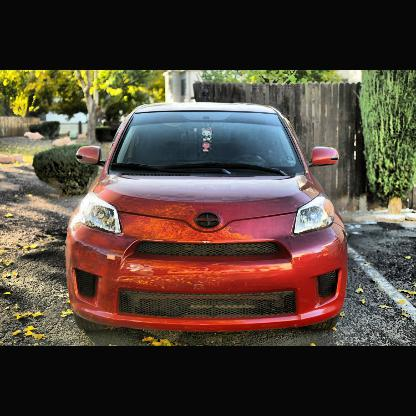Scion xD Hatchback 2012: (64, 101, 352, 340)
